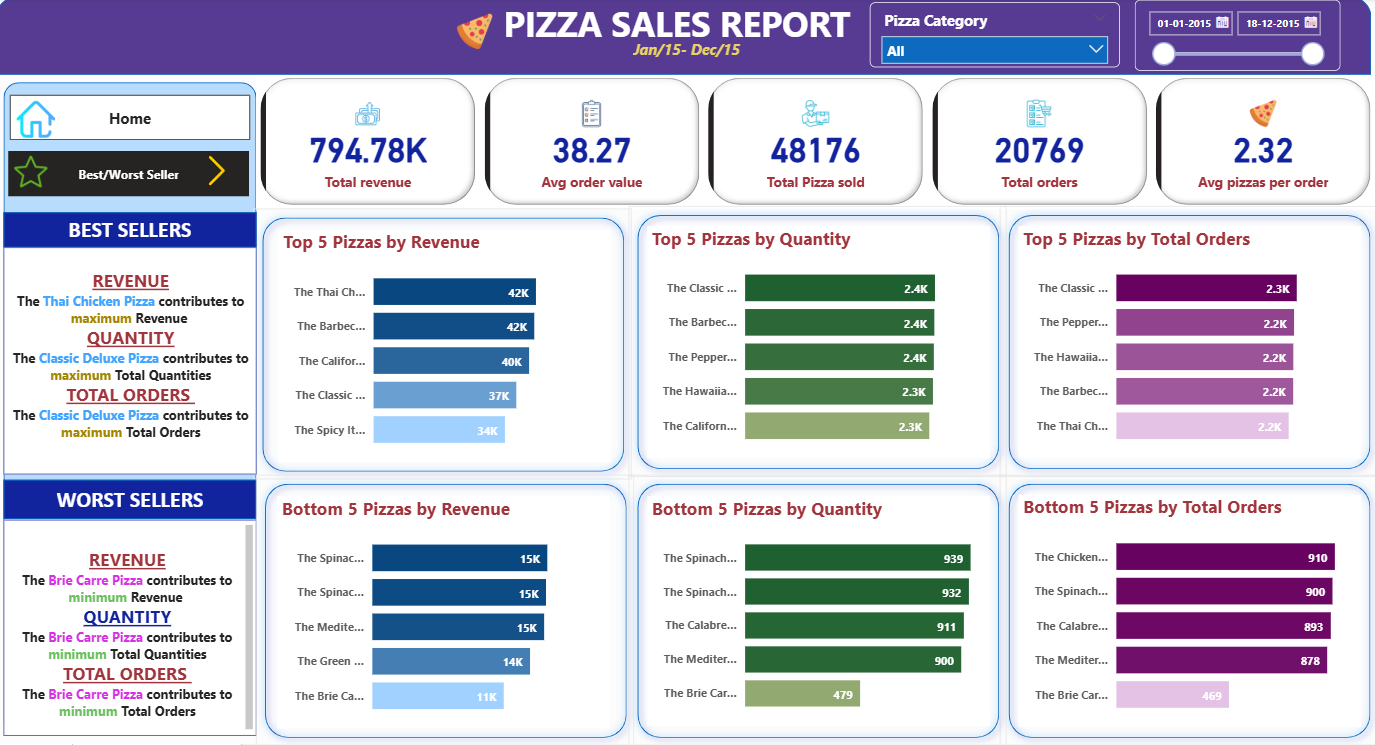

Layout of this report page (visuals, bound fields, positions):
{"tool":"powerbi","page":{"name":"Best/Worst Seller","canvas":[1500,820],"ordinal":1},"visuals":[{"type":"shape","box":[13.2,104.4,273.5,705.9],"z":0},{"type":"cardVisual","fields":{"Data":["pizza_sales.Total revenue","pizza_sales.Avg order value","pizza_sales.Pizza sold","pizza_sales.Total orders","pizza_sales.Avg pizzas per order"]},"box":[286.8,94.1,1213.2,147.1],"z":1000},{"type":"shape","box":[5.9,11.8,1486.8,83.8],"z":2000},{"type":"textbox","box":[522.1,10.3,439.7,64.7],"z":3000},{"type":"shape","box":[283.8,241.2,408.8,292.6],"z":4000},{"type":"shape","box":[13.2,244.1,273.5,38.2],"z":5000},{"type":"textbox","box":[13.2,282.4,273.5,245.6],"z":6000},{"type":"shape","box":[13.2,533.8,273.5,42.6],"z":7000},{"type":"textbox","box":[13.2,576.5,273.5,233.8],"z":8000},{"type":"slicer","fields":{"Values":["pizza_sales.pizza_category"]},"box":[950,17.6,270.6,70.6],"z":9000},{"type":"slicer","fields":{"Values":["pizza_sales.order_date"]},"box":[1236.8,14.7,222.1,76.5],"z":10000},{"type":"shape","box":[1091.2,238.2,408.8,292.6],"z":11000},{"type":"shape","box":[689.7,238.2,408.8,292.6],"z":12000},{"type":"shape","box":[286.8,527.9,408.8,292.6],"z":13000},{"type":"shape","box":[1091.2,527.9,408.8,292.6],"z":14000},{"type":"shape","box":[689.7,527.9,408.8,292.6],"z":15000},{"type":"barChart","title":"Top 5 Pizzas by Revenue","fields":{"Category":["pizza_sales.pizza_name"],"Y":["pizza_sales.Total revenue"]},"box":[310.3,263.2,358.8,251.5],"z":16000},{"type":"barChart","title":"Bottom 5 Pizzas by Revenue","fields":{"Category":["pizza_sales.pizza_name"],"Y":["pizza_sales.Total revenue"]},"box":[308.8,551.5,358.8,251.5],"z":17000},{"type":"barChart","title":"Top 5 Pizzas by Quantity","fields":{"Category":["pizza_sales.pizza_name"],"Y":["pizza_sales.Total Pizza sold"]},"box":[708.8,258.8,370.6,251.5],"z":18000},{"type":"barChart","title":"Bottom 5 Pizzas by Quantity","fields":{"Category":["pizza_sales.pizza_name"],"Y":["pizza_sales.Total Pizza sold"]},"box":[708.8,551.5,370.6,248.5],"z":19000},{"type":"barChart","title":"Top 5 Pizzas by Total Orders","fields":{"Category":["pizza_sales.pizza_name"],"Y":["pizza_sales.Total orders"]},"box":[1110.3,258.8,370.6,251.5],"z":20000},{"type":"barChart","title":"Bottom 5 Pizzas by Total Orders","fields":{"Category":["pizza_sales.pizza_name"],"Y":["pizza_sales.Total orders"]},"box":[1110.3,550,370.6,251.5],"z":21000},{"type":"pageNavigator","box":[20.6,117.6,260.3,50],"z":22000},{"type":"pageNavigator","box":[19.1,177.9,260.3,50],"z":23000},{"type":"image","box":[219.1,177.9,50,42.6],"z":23001},{"type":"image","box":[20.6,176.5,45.6,47.1],"z":23002},{"type":"image","box":[23.5,111.8,51.5,63.2],"z":23003},{"type":"textbox","box":[689.7,52.9,169.1,35.3],"z":23004},{"type":"image","box":[497.1,25,51.5,50],"z":23005}]}

Visuals, with their boxes in screenshot pixels (x1, y1, x2, y2), scaled from the page's 1500x820 canvas onto the 1375x745 screenshot:
shape: l=12, t=95, r=263, b=736
cardVisual - pizza_sales.Total revenue x pizza_sales.Avg order value: l=263, t=85, r=1374, b=219
shape: l=5, t=11, r=1368, b=87
textbox: l=479, t=9, r=882, b=68
shape: l=260, t=219, r=635, b=485
shape: l=12, t=222, r=263, b=256
textbox: l=12, t=257, r=263, b=480
shape: l=12, t=485, r=263, b=524
textbox: l=12, t=524, r=263, b=736
slicer - pizza_sales.pizza_category: l=871, t=16, r=1119, b=80
slicer - pizza_sales.order_date: l=1134, t=13, r=1337, b=83
shape: l=1000, t=216, r=1374, b=482
shape: l=632, t=216, r=1007, b=482
shape: l=263, t=480, r=638, b=744
shape: l=1000, t=480, r=1374, b=744
shape: l=632, t=480, r=1007, b=744
"Top 5 Pizzas by Revenue" barChart: l=284, t=239, r=613, b=468
"Bottom 5 Pizzas by Revenue" barChart: l=283, t=501, r=612, b=730
"Top 5 Pizzas by Quantity" barChart: l=650, t=235, r=989, b=464
"Bottom 5 Pizzas by Quantity" barChart: l=650, t=501, r=989, b=727
"Top 5 Pizzas by Total Orders" barChart: l=1018, t=235, r=1357, b=464
"Bottom 5 Pizzas by Total Orders" barChart: l=1018, t=500, r=1357, b=728
pageNavigator: l=19, t=107, r=257, b=152
pageNavigator: l=18, t=162, r=256, b=207
image: l=201, t=162, r=247, b=200
image: l=19, t=160, r=61, b=203
image: l=22, t=102, r=69, b=159
textbox: l=632, t=48, r=787, b=80
image: l=456, t=23, r=503, b=68
